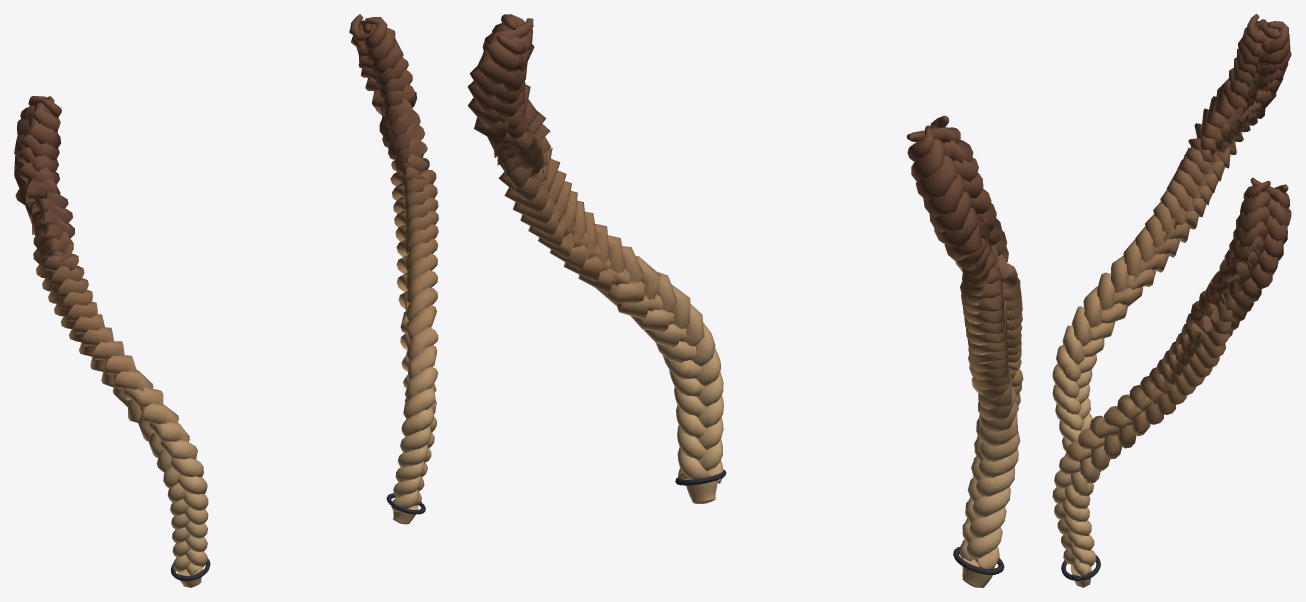
File: twins-none-tshirt-ombre.glb
3 views of the same model, side by side, from view 1: azimuth 30°, elevation 25°; view 2: azimuth 150°, elevation 25°; view 3: azimuth 270°, elevation 25° (orthographic). The views are drawn at different scales.
Parts seen in each view (by area): view 1: 226 hairLengths / Hair / chestnut226, 226 hairLengths / Hair / ties226; view 2: 226 hairLengths / Hair / chestnut226, 226 hairLengths / Hair / ties226; view 3: 226 hairLengths / Hair / chestnut226.
Part boxes in pixels (left/top/right/bottom): 226 hairLengths / Hair / chestnut226: left=14, top=14, right=438, bottom=587; 226 hairLengths / Hair / ties226: left=170, top=493, right=425, bottom=580; 226 hairLengths / Hair / chestnut226: left=467, top=14, right=1023, bottom=587; 226 hairLengths / Hair / ties226: left=675, top=469, right=1004, bottom=574; 226 hairLengths / Hair / chestnut226: left=1052, top=14, right=1291, bottom=587.
Bounding box in the file's own units: 0.8712 × 0.9286 × 0.4503.
Materials: 2 (1 with a texture image).
